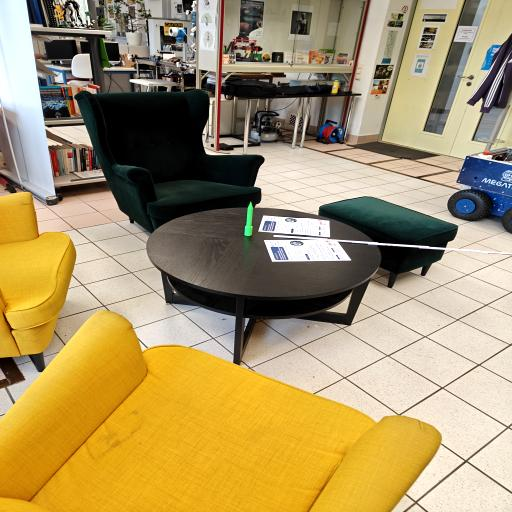Probe-Detection: (244, 202, 253, 236)
